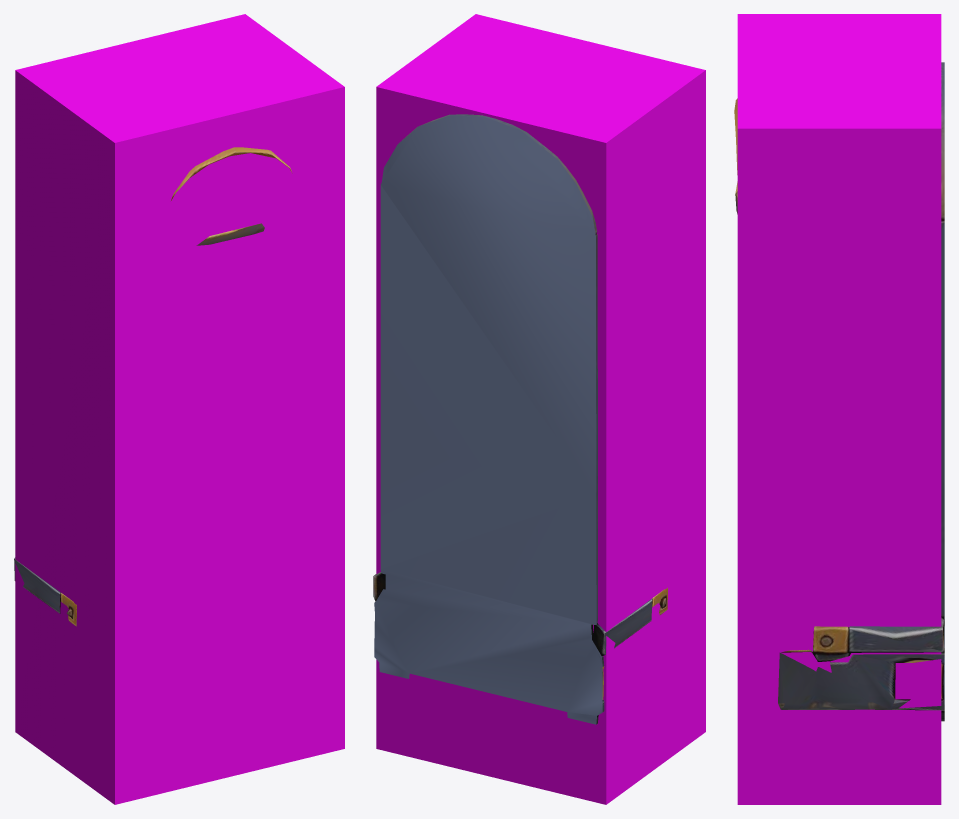
Rendered from prop_cabinet.glb.
3 views of the same model, side by side, from view 1: azimuth 30°, elevation 25°; view 2: azimuth 150°, elevation 25°; view 3: azimuth 270°, elevation 25° (orthographic). The views are drawn at different scales.
Visible parts, largest first — view 1: prop_cabinet_col, prop_cabinet; view 2: prop_cabinet, prop_cabinet_col; view 3: prop_cabinet_col, prop_cabinet.
Boxes of the visible parts, left/top/right/bottom form: prop_cabinet_col: left=15, top=14, right=344, bottom=804; prop_cabinet: left=14, top=147, right=292, bottom=626; prop_cabinet: left=373, top=114, right=667, bottom=724; prop_cabinet_col: left=376, top=14, right=705, bottom=804; prop_cabinet_col: left=737, top=14, right=941, bottom=804; prop_cabinet: left=734, top=62, right=944, bottom=721.
Size of the model in its own units: 0.818 by 2.2 by 0.6202.
2 materials, 1 textured.
